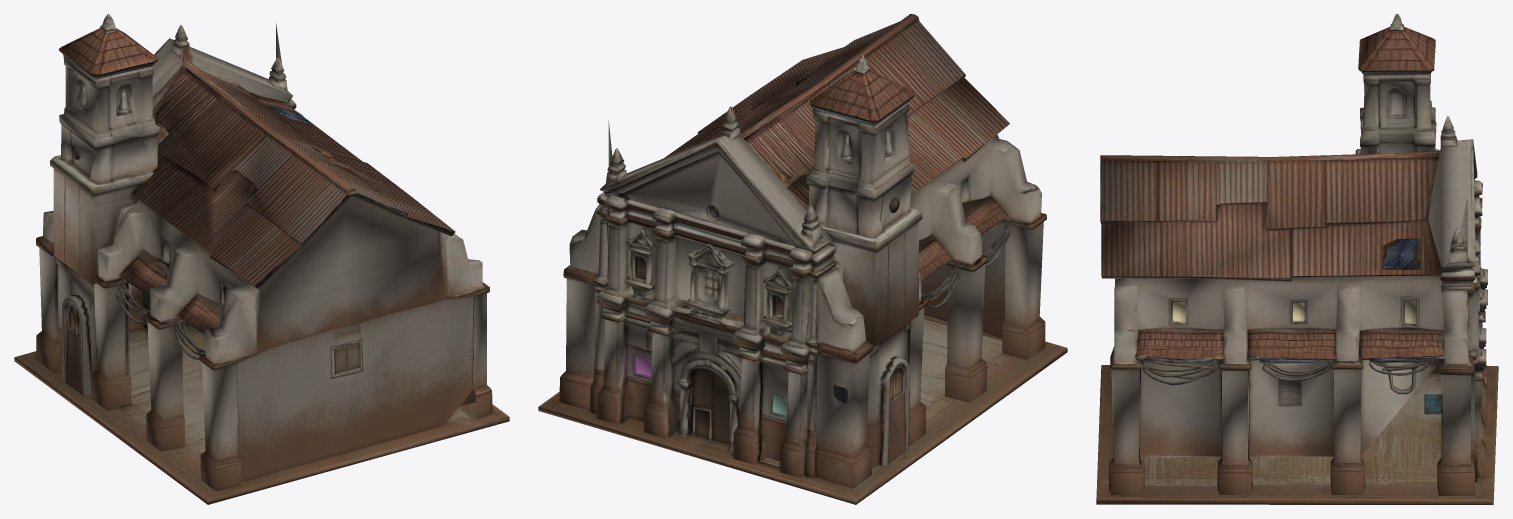
File: lm_baroque_church.glb
3 views of the same model, side by side, from view 1: azimuth 30°, elevation 25°; view 2: azimuth 150°, elevation 25°; view 3: azimuth 270°, elevation 25° (orthographic). The views are drawn at different scales.
Visible parts, largest first — view 1: Body; view 2: Body; view 3: Body.
Part boxes in pixels (bbox=[...]): Body: bbox=[14, 14, 509, 504]; Body: bbox=[538, 14, 1067, 504]; Body: bbox=[1096, 14, 1498, 504].
Bounding box in the file's own units: 24 × 28.32 × 27.33.
1 material, 1 textured.
